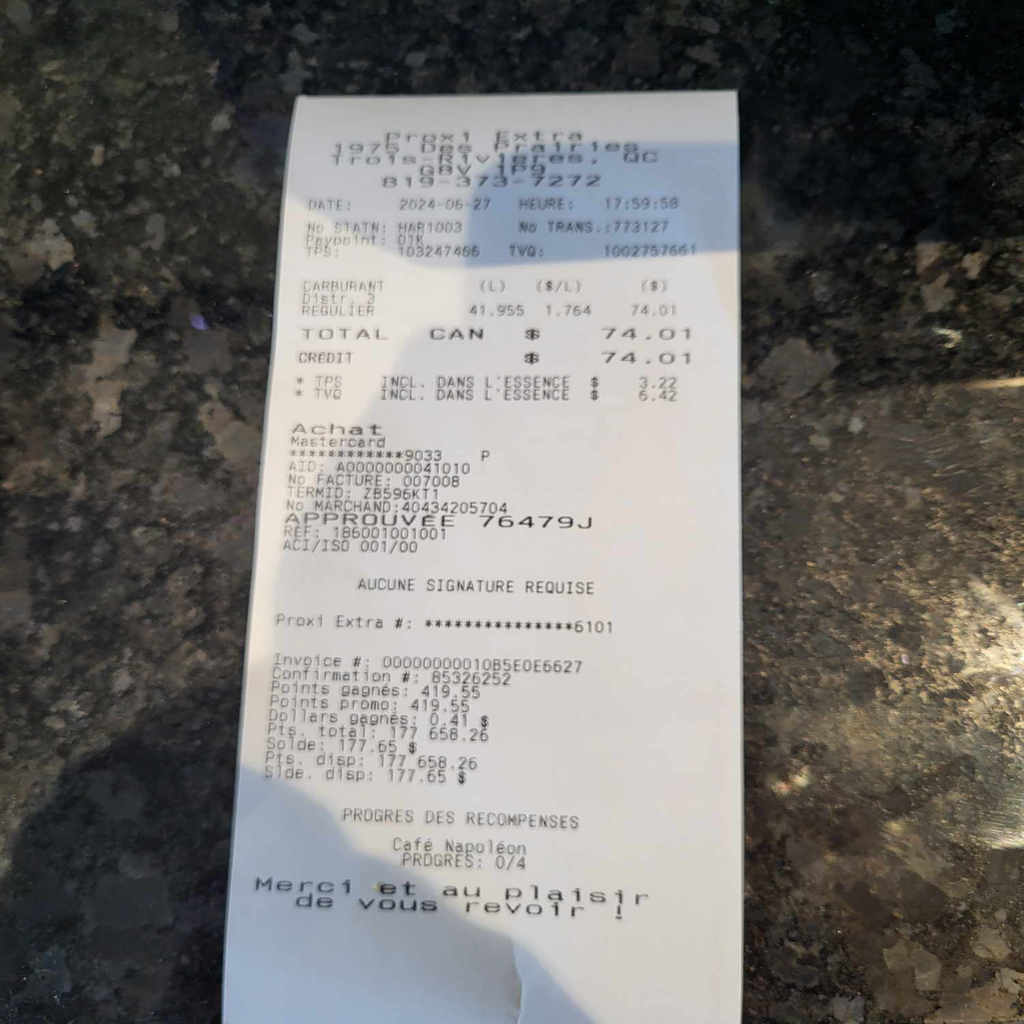recipt: (220, 84, 739, 1009)
